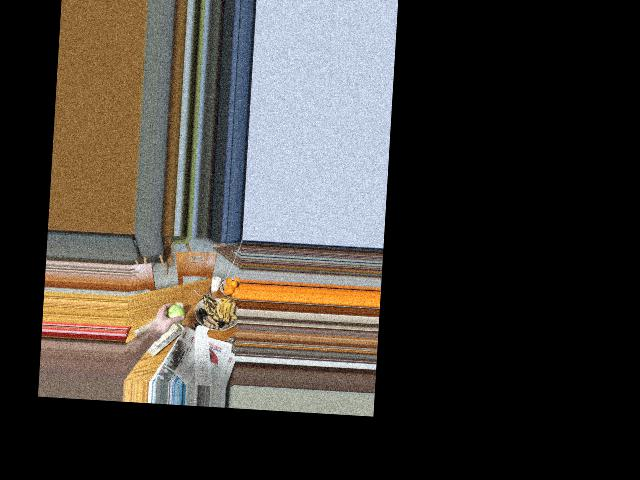apple: (164, 303, 186, 325)
